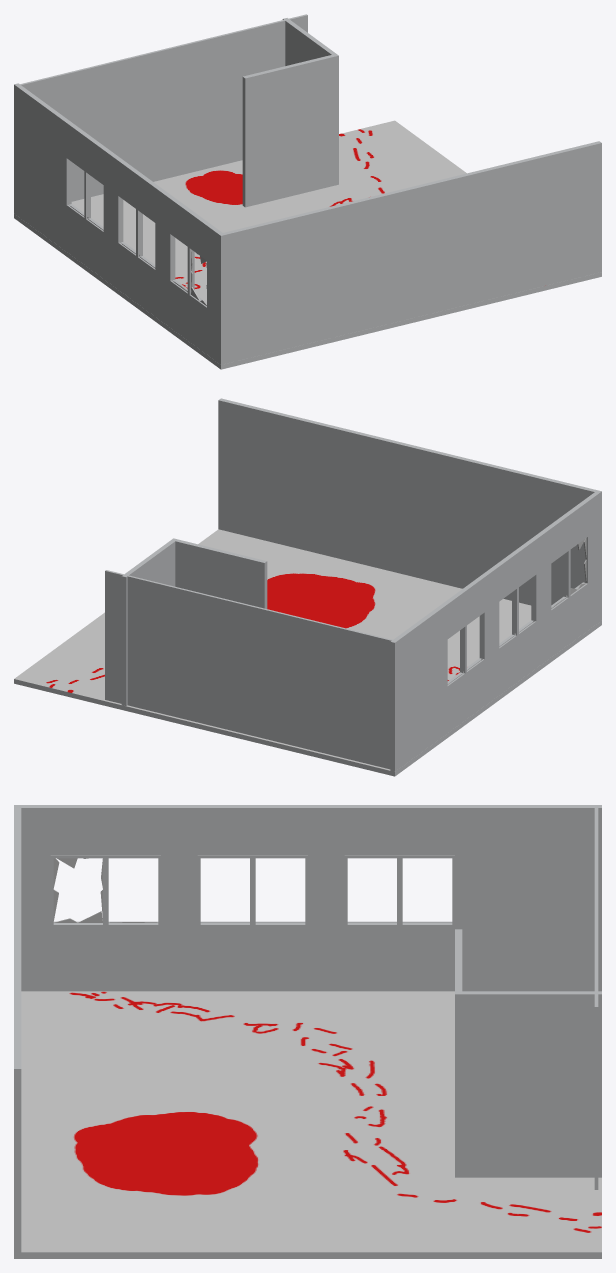
The model's file is Patient_ROOM.fbx.
3 views of the same model, one above another, from view 1: azimuth 30°, elevation 25°; view 2: azimuth 150°, elevation 25°; view 3: azimuth 270°, elevation 25° (orthographic). The views are drawn at different scales.
Visible parts, largest first — view 1: Patient_Room2; view 2: Patient_Room2; view 3: Patient_Room2.
Part boxes in pixels (bbox=[...]): Patient_Room2: bbox=[14, 14, 601, 369]; Patient_Room2: bbox=[14, 398, 601, 776]; Patient_Room2: bbox=[14, 805, 601, 1258].
Size of the model in its own units: 8.5 by 2.85 by 8.
Materials: 1 (1 with a texture image).
